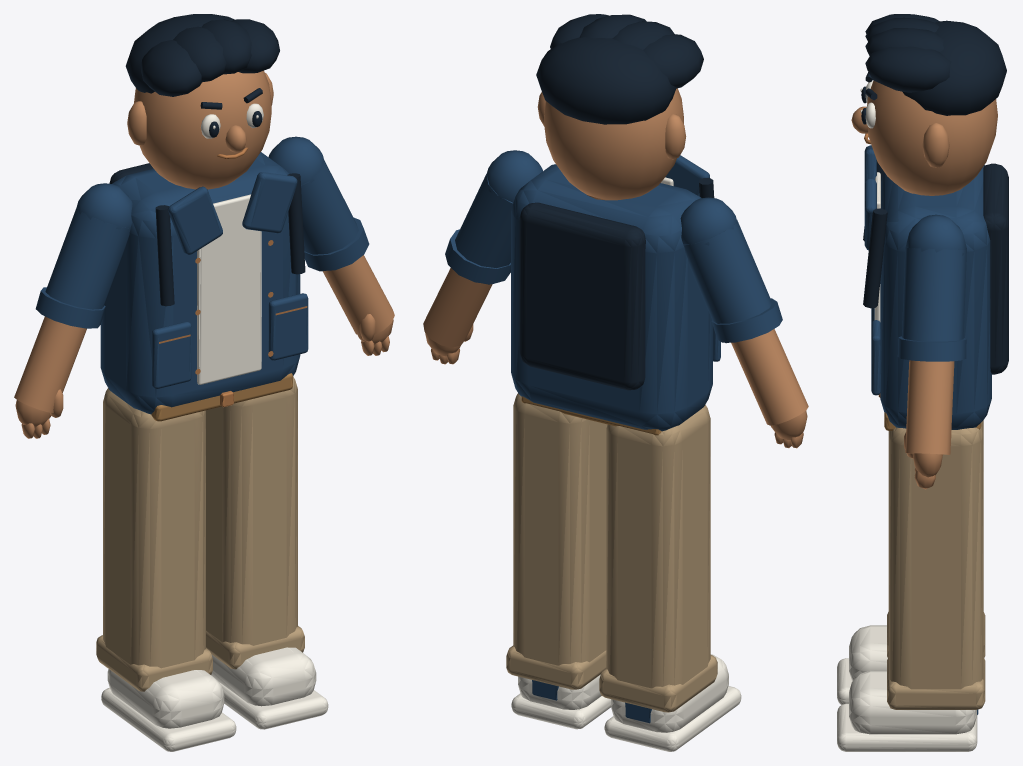
File: student-guide.fbx
3 renders of one model, left to right at view 1: azimuth 30°, elevation 25°; view 2: azimuth 150°, elevation 25°; view 3: azimuth 270°, elevation 25°, orthographic.
Parts seen in each view (by area): view 1: GuideBody, LeftLeg, RightLeg, LeftUpperArm, LeftFoot, RightFoot, RightUpperArm, LeftForearm, RightForearm, LeftHand, RightHand; view 2: GuideBody, LeftLeg, RightLeg, LeftUpperArm, RightUpperArm, LeftFoot, LeftForearm, RightFoot, RightForearm, LeftHand; view 3: GuideBody, RightLeg, RightUpperArm, RightFoot, RightForearm, LeftFoot, RightHand.
Boxes of the visible parts, x1,y1,x2,y2 form: GuideBody: (100,14,308,421); LeftLeg: (96,388,212,691); RightLeg: (206,376,304,669); LeftUpperArm: (35,183,132,328); LeftFoot: (101,669,236,751); RightFoot: (211,647,328,729); RightUpperArm: (268,136,369,271); LeftForearm: (14,316,86,412); RightForearm: (323,255,394,335); LeftHand: (15,389,63,438); RightHand: (357,314,393,355); GuideBody: (511,14,720,435); LeftLeg: (599,405,717,712); RightLeg: (506,393,607,689); LeftUpperArm: (680,197,782,343); RightUpperArm: (445,150,542,284); LeftFoot: (604,654,741,751); LeftForearm: (731,329,808,425); RightFoot: (511,674,610,729); RightForearm: (423,268,492,347); LeftHand: (771,410,807,448); GuideBody: (851,14,1008,430); RightLeg: (887,420,985,709); RightUpperArm: (897,214,966,361); RightFoot: (837,670,978,751); RightForearm: (905,360,954,454); LeftFoot: (837,625,887,704); RightHand: (904,432,942,489).
Size of the model in its own units: 106 by 184 by 41.65.
